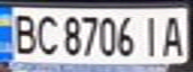0: (96, 14, 121, 58)
6: (115, 12, 139, 59)
7: (78, 12, 100, 57)
8: (60, 11, 81, 57)
A: (157, 11, 190, 58)
B: (6, 10, 39, 55)
C: (33, 11, 60, 56)
I: (139, 12, 166, 59)
